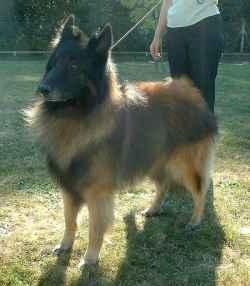German_shepherd: (21, 14, 216, 271)
